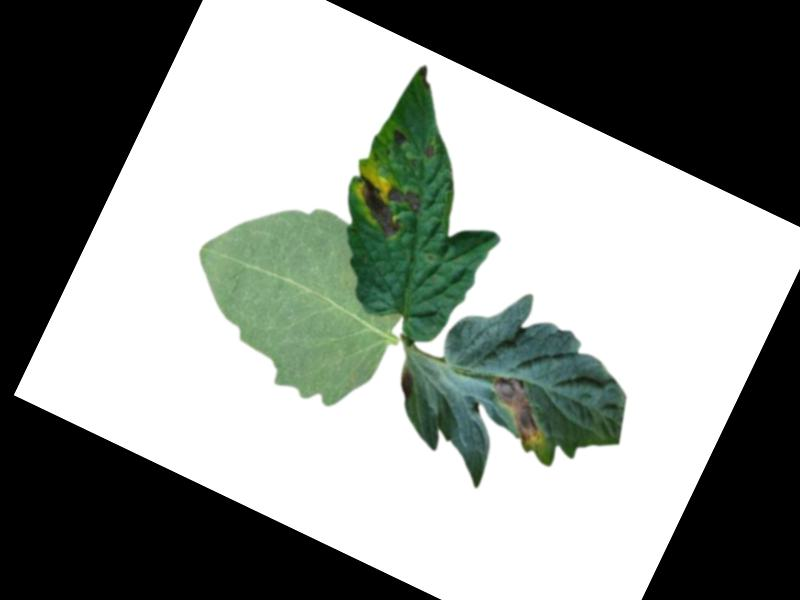Early_blight: (472, 368, 563, 455), (340, 166, 426, 247), (410, 62, 437, 91), (384, 125, 409, 150), (420, 145, 437, 161)
healthy: (155, 166, 438, 427)
